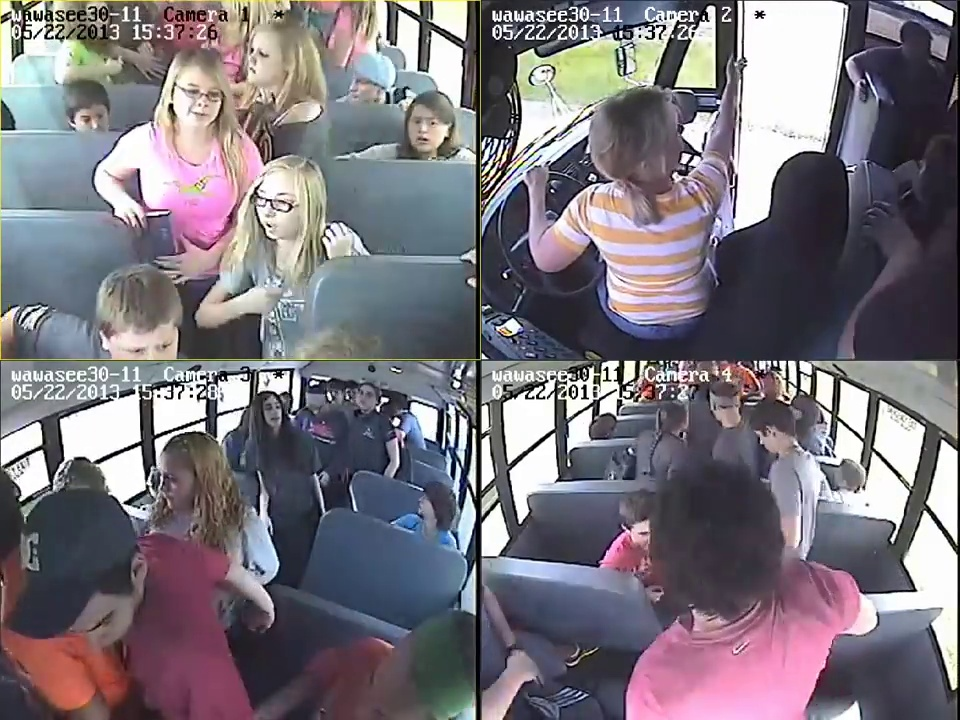face: (253, 173, 302, 237), (247, 36, 288, 88), (179, 72, 218, 126), (404, 110, 446, 153), (159, 453, 190, 511), (121, 329, 179, 355), (71, 101, 108, 129), (417, 490, 441, 524), (258, 398, 286, 424), (355, 386, 377, 411)
